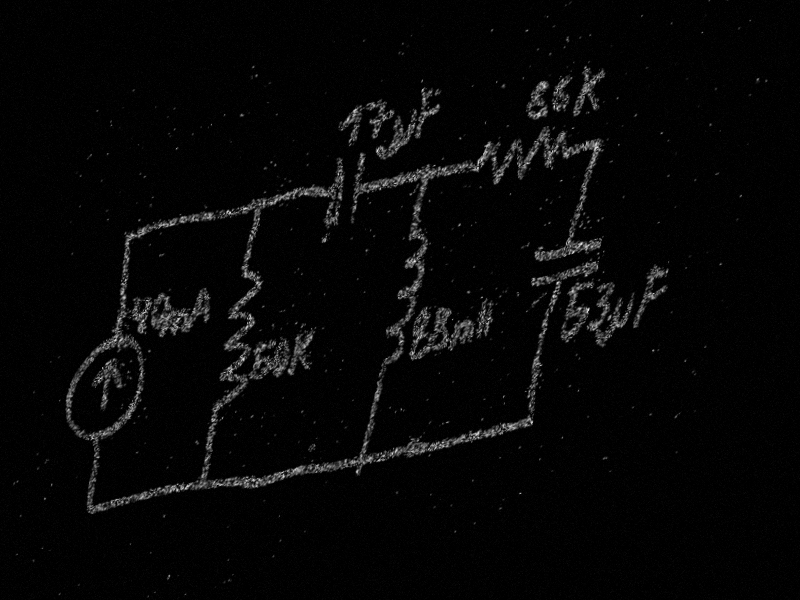0: (147, 289, 173, 335), (268, 337, 294, 379)
1: (330, 99, 366, 156)
3: (584, 279, 616, 335)
4: (125, 290, 156, 340)
5: (556, 279, 596, 346), (247, 336, 278, 384)
6: (548, 71, 576, 116)
7: (357, 94, 398, 146)
8: (405, 302, 440, 365), (522, 77, 554, 126), (427, 303, 455, 357)
A: (185, 282, 217, 334)
F: (632, 260, 674, 329), (411, 83, 446, 143)
H: (473, 296, 497, 342)
k: (572, 58, 610, 120), (285, 328, 317, 379)
m: (159, 305, 191, 340), (447, 316, 478, 350)
u: (385, 109, 418, 162), (605, 292, 637, 340)
